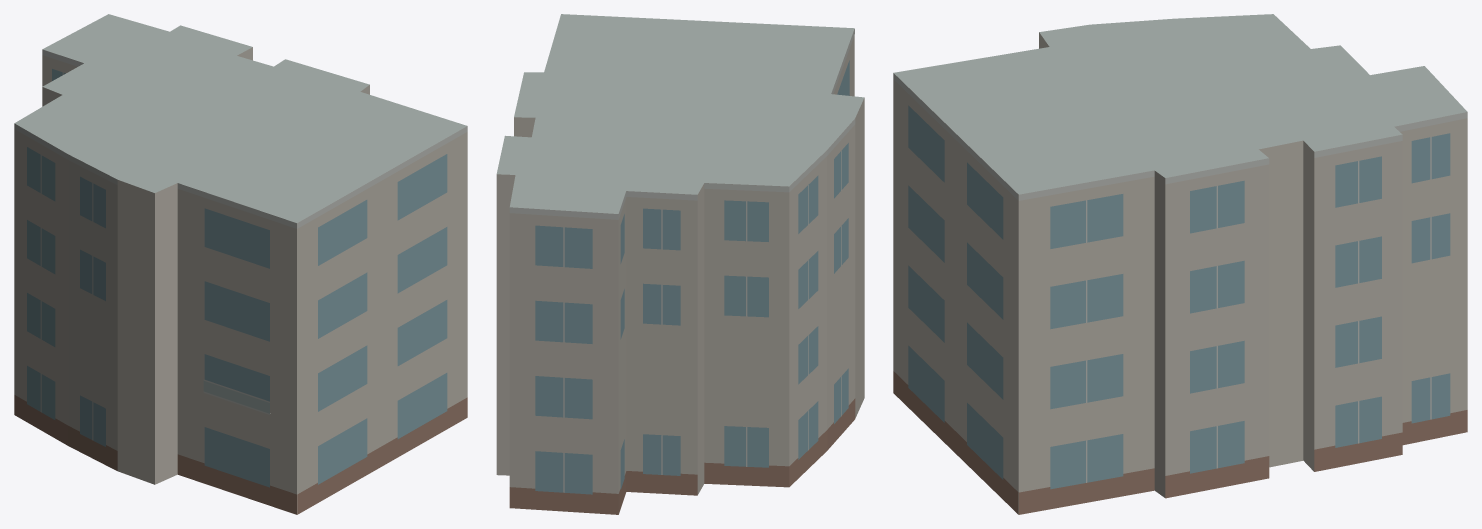
Rendered from survey-upis-32932357.glb.
3 renders of one model, left to right at view 1: azimuth 30°, elevation 25°; view 2: azimuth 150°, elevation 25°; view 3: azimuth 270°, elevation 25°, orthographic. The views are drawn at different scales.
Visible parts, largest first — view 1: survey-upis-32932357.tmp; view 2: survey-upis-32932357.tmp; view 3: survey-upis-32932357.tmp.
Boxes of the visible parts, <box> form: survey-upis-32932357.tmp: <box>14,14,467,514</box>; survey-upis-32932357.tmp: <box>496,14,864,514</box>; survey-upis-32932357.tmp: <box>893,14,1467,514</box>.
Size of the model in its own units: 15.14 by 12.5 by 20.33.
